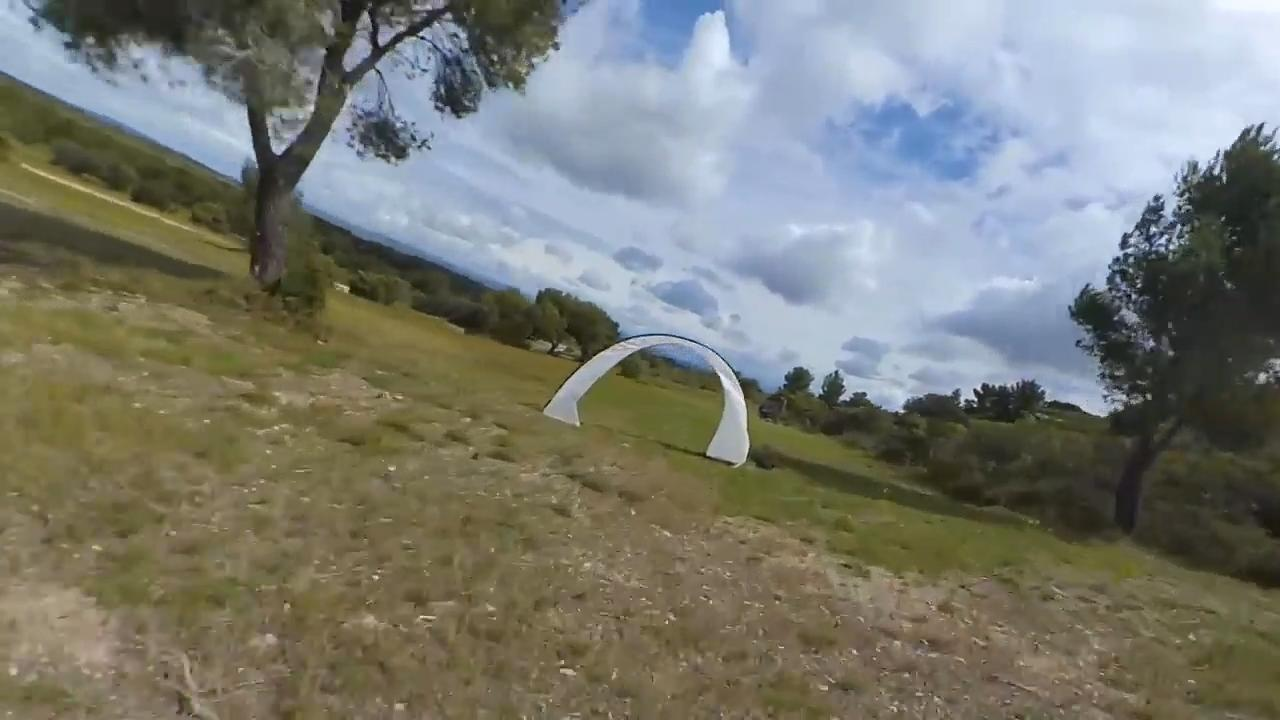gate: (543, 331, 754, 470)
